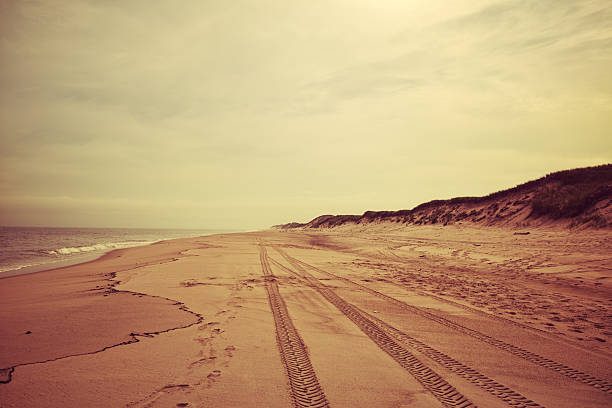vehicle_track: (284, 254, 611, 393), (291, 263, 475, 407), (351, 305, 543, 407), (384, 279, 611, 358), (260, 245, 329, 408)
